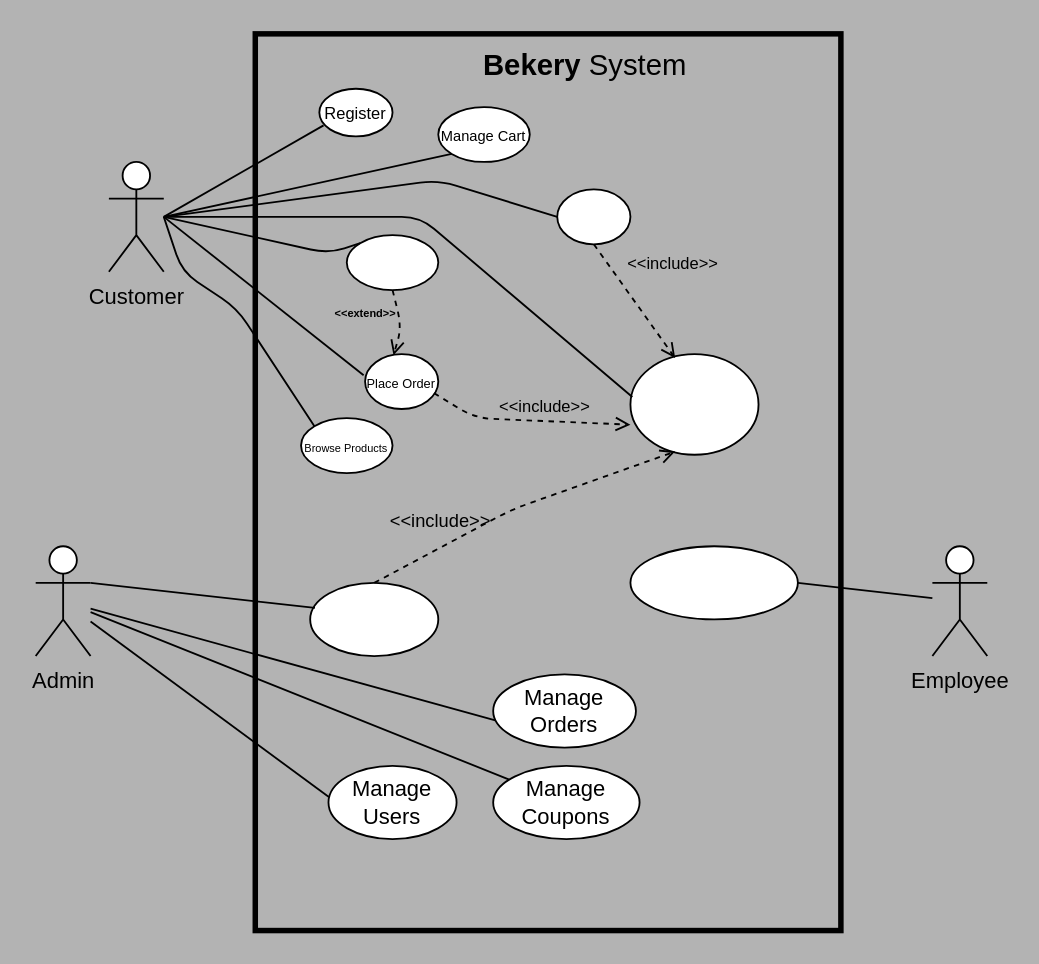
The diagram is 1039 pixels wide and 964 high, and some of its shapes have lost their labels. The shapes that lost their labels are listed below. From the top down, each one's box as (x1, y1, x2, y2) in pixels, then its label:
(555, 188, 630, 244): Add to Cart
(345, 233, 438, 290): Apply Coupon
(629, 352, 759, 455): Login
(629, 544, 798, 619): Update Order Status
(308, 581, 438, 656): Manage Products
